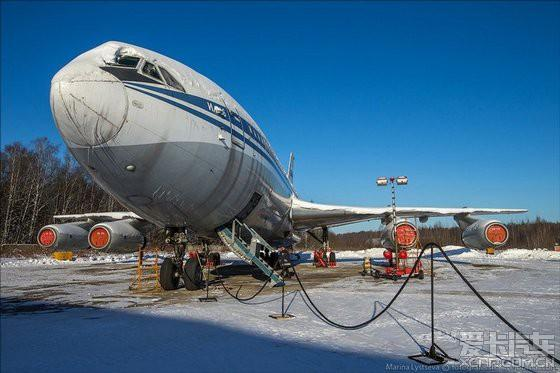airplane: (29, 39, 530, 284)
